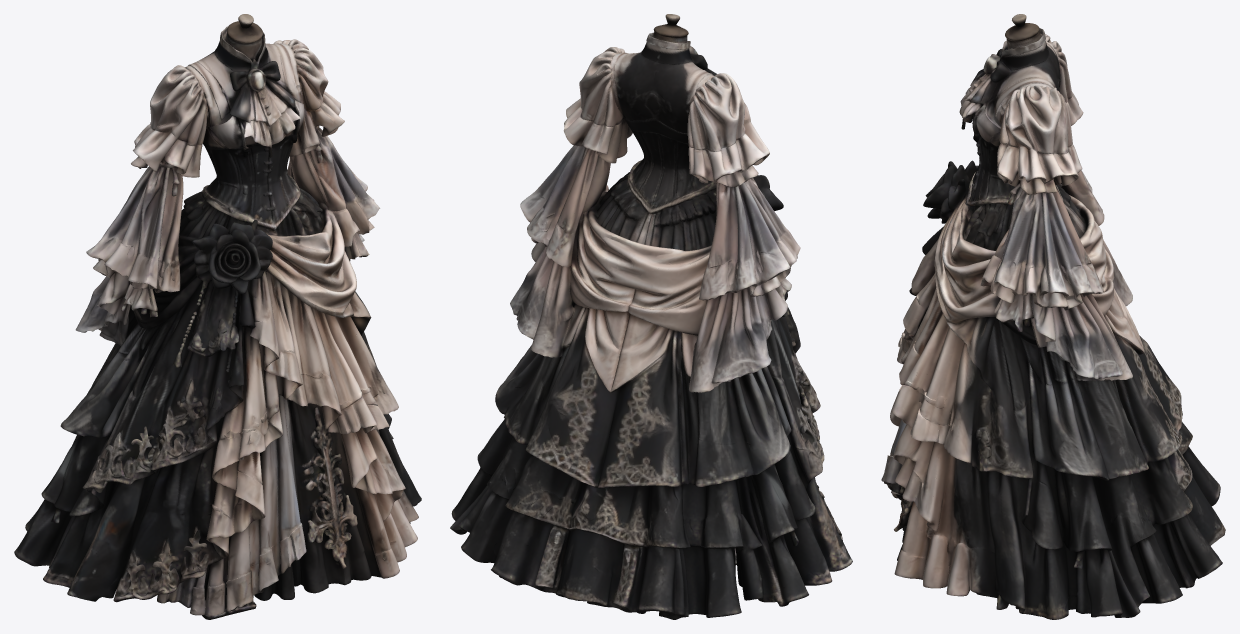
File: outfit-2.glb
The picture shows the model from 3 angles, left to right: view 1: azimuth 30°, elevation 25°; view 2: azimuth 150°, elevation 25°; view 3: azimuth 270°, elevation 25°; orthographic projection. The views are drawn at different scales.
Visible parts, largest first — view 1: model; view 2: model; view 3: model.
Part boxes in pixels (x1,y1,x2,y2): model: (14,14,421,619); model: (450,14,852,619); model: (881,14,1225,619).
Size of the model in its own units: 1.31 by 1.9 by 1.09.
Materials: 1 (1 with a texture image).
